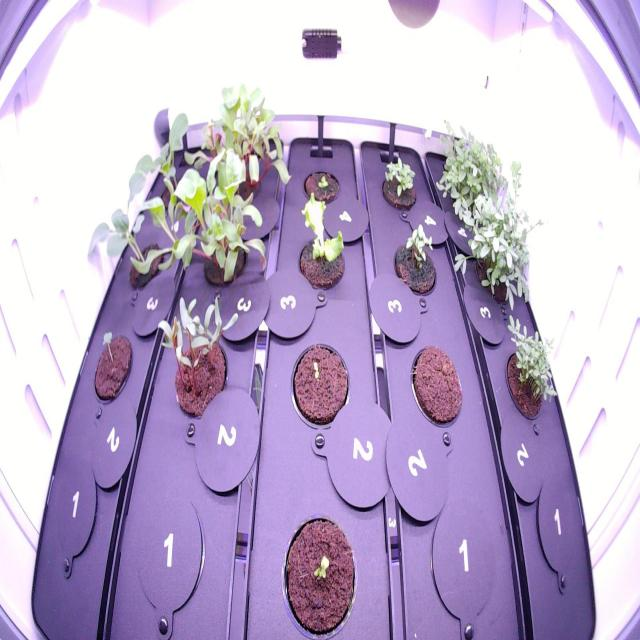empty_pod: (425, 494, 505, 620), (130, 491, 208, 606), (527, 479, 589, 592), (46, 461, 101, 565)
germination: (152, 285, 248, 435), (275, 505, 365, 634), (494, 308, 566, 434), (285, 335, 357, 431), (386, 208, 441, 306), (84, 318, 138, 405), (373, 147, 423, 215), (296, 157, 344, 211)
pod: (406, 339, 466, 435)
